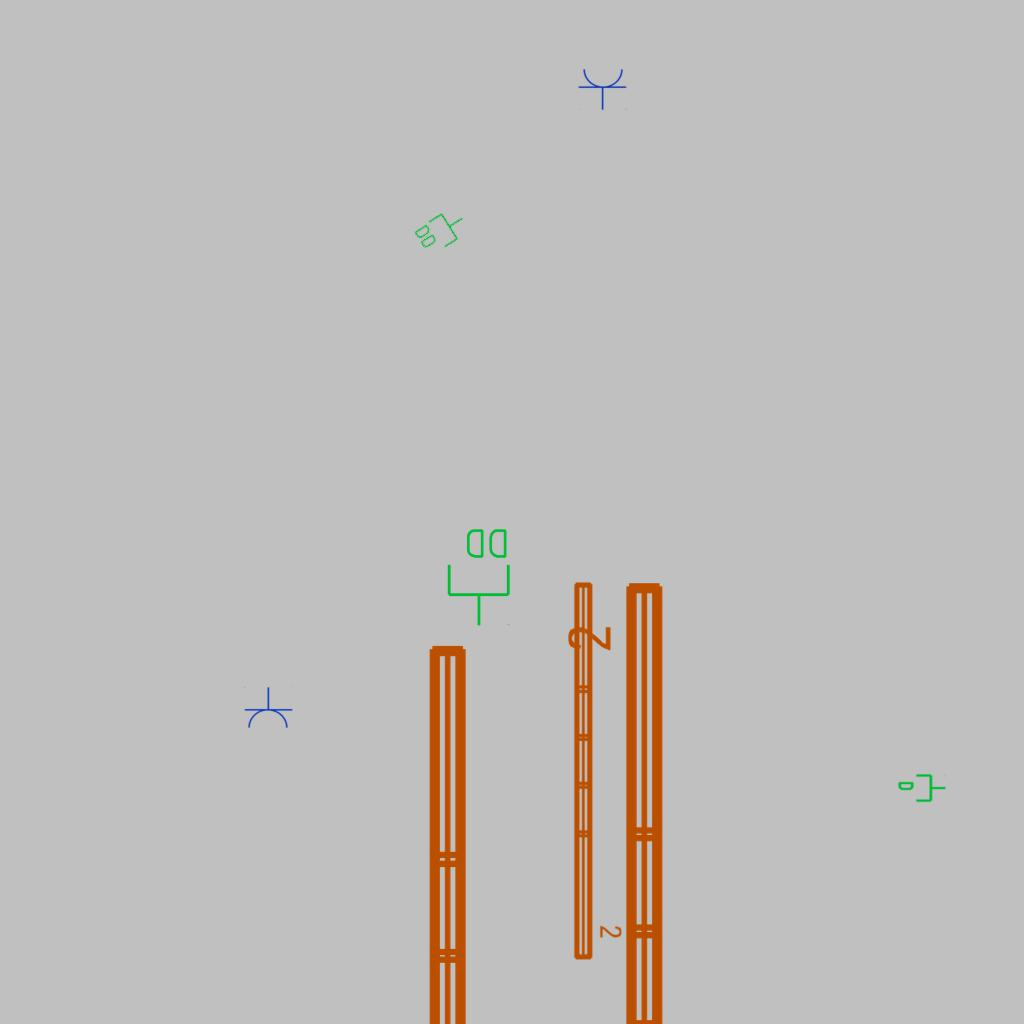Ambulanz_Pendelleuchte_LED: (563, 574, 675, 1024), (417, 635, 529, 1024), (568, 577, 624, 964)
Datenanschluss_einfach: (897, 772, 947, 806)
Datenanschluss_zweifach: (445, 525, 514, 628), (410, 203, 473, 259)
Schukosteckdose_einfach: (578, 67, 628, 110), (243, 687, 293, 730)
